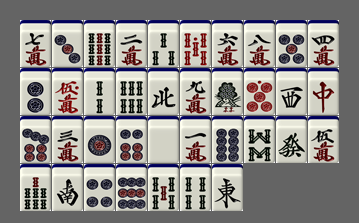0m: (52, 68, 83, 115)
0p: (244, 68, 275, 115)
0s: (180, 20, 211, 67)
1m: (180, 116, 211, 163)
1p: (84, 116, 115, 163)
1s: (212, 68, 243, 115)
1z: (212, 164, 243, 211)
2m: (116, 20, 147, 67)
2p: (20, 68, 51, 115)
2s: (84, 68, 115, 115)
2z: (52, 164, 83, 211)
3m: (52, 116, 83, 163)
3p: (52, 20, 83, 67)
3s: (148, 20, 179, 67)
3z: (276, 68, 307, 115)
4m: (308, 20, 339, 67)
4p: (84, 164, 115, 211)
4s: (180, 164, 211, 211)
4z: (148, 68, 179, 115)
5m: (308, 116, 339, 163)
5p: (276, 20, 307, 67)
5s: (148, 164, 179, 211)
5z: (148, 116, 179, 163)
6m: (212, 20, 243, 67)
6p: (116, 116, 147, 163)
6s: (116, 68, 147, 115)
6z: (276, 116, 307, 163)
7m: (20, 20, 51, 67)
7p: (20, 116, 51, 163)
7s: (20, 164, 51, 211)
7z: (308, 68, 339, 115)
8m: (244, 20, 275, 67)
8p: (212, 116, 243, 163)
8s: (244, 116, 275, 163)
9m: (180, 68, 211, 115)
9p: (116, 164, 147, 211)
9s: (84, 20, 115, 67)
